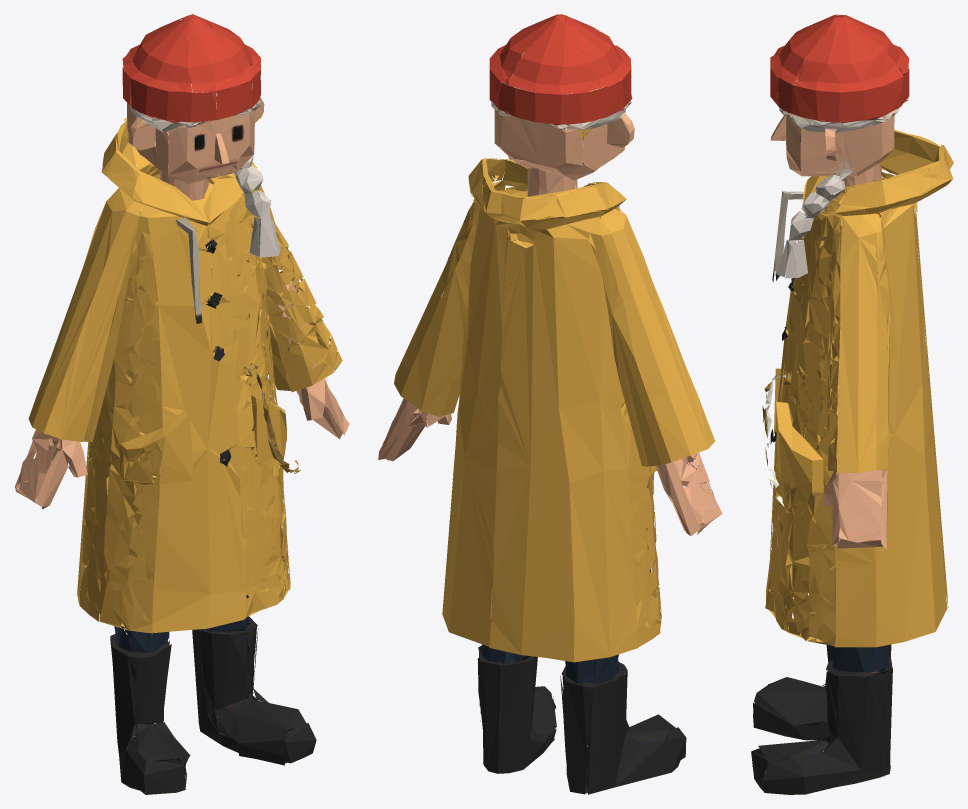
The model's file is habitant.glb.
3 renders of one model, left to right at view 1: azimuth 30°, elevation 25°; view 2: azimuth 150°, elevation 25°; view 3: azimuth 270°, elevation 25°, orthographic. The views are drawn at different scales.
Visible parts, largest first — view 1: world; view 2: world; view 3: world.
Part boxes in pixels (x1,y1,x2,y2): world: (14, 14, 349, 794); world: (378, 14, 722, 794); world: (751, 14, 953, 794).
Bounding box in the file's own units: 0.4533 × 1 × 0.2501.
1 material, 1 textured.
